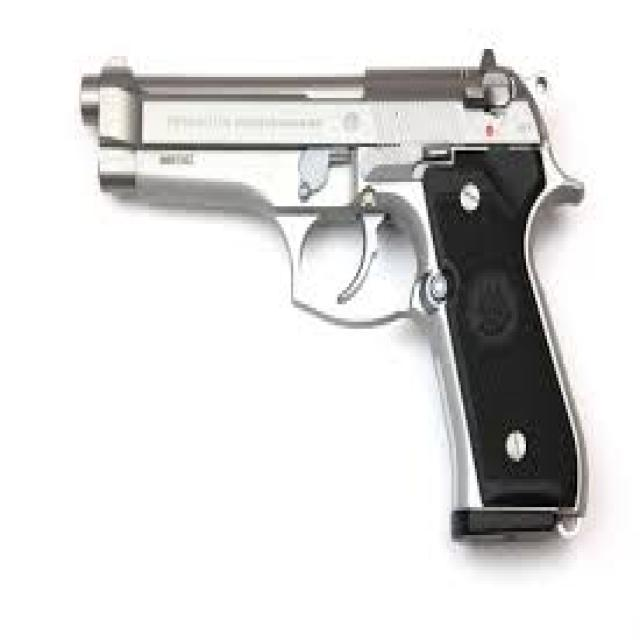pistol: (70, 40, 601, 555)
